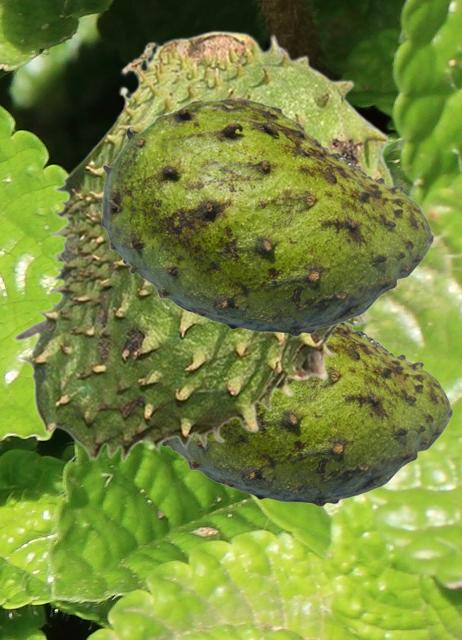guyabano: (12, 30, 397, 462), (98, 96, 433, 336), (162, 323, 452, 506)
